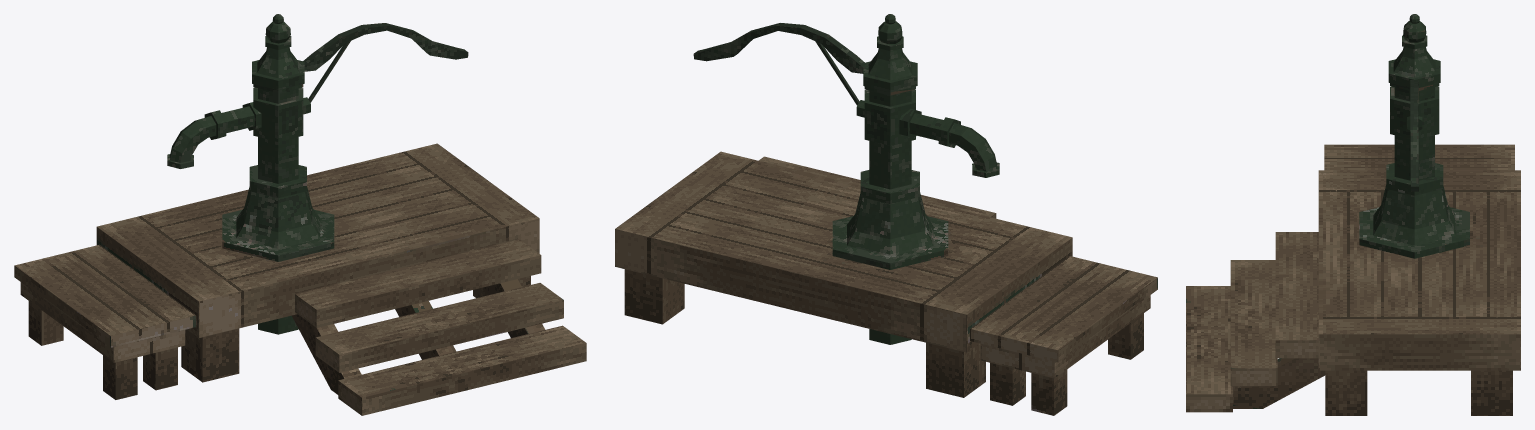
The model's file is waterpump.green.glb.
3 renders of one model, left to right at view 1: azimuth 30°, elevation 25°; view 2: azimuth 150°, elevation 25°; view 3: azimuth 270°, elevation 25°, orthographic. The views are drawn at different scales.
Parts seen in each view (by area): view 1: Base; view 2: Base; view 3: Base.
Part boxes in pixels (x1,y1,x2,y2): Base: (14,14,586,415); Base: (615,14,1157,415); Base: (1186,14,1520,415).
Bounding box in the file's own units: 2.31 × 1.62 × 1.59.
1 material, 1 textured.
